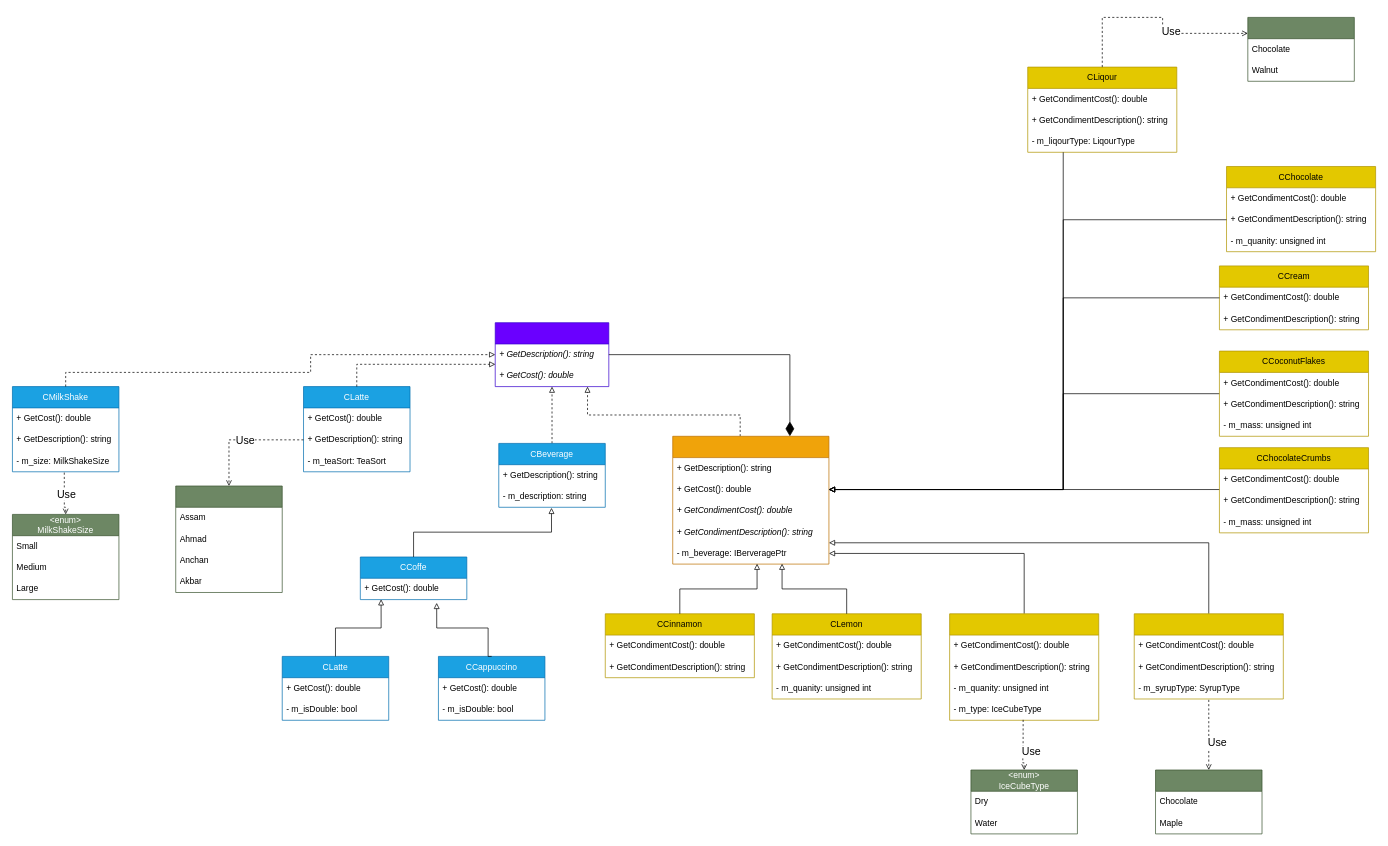
This 1388x846 diagram has some shape labels left out. The shapes that lost their labels are listed below. From the top down, each one's box as (x1, y1, x2, y2) in pixels, then its label:
(1247, 17, 1354, 81): <enum> LiqourType
(495, 322, 609, 387): <Interface> IBeverage
(672, 436, 829, 564): CCondimentDecorator
(175, 485, 282, 592): <enum> TeaSort
(949, 613, 1099, 720): CIceCubes
(1134, 613, 1283, 699): CSyrup
(1155, 769, 1262, 834): <enum> SyrupType
